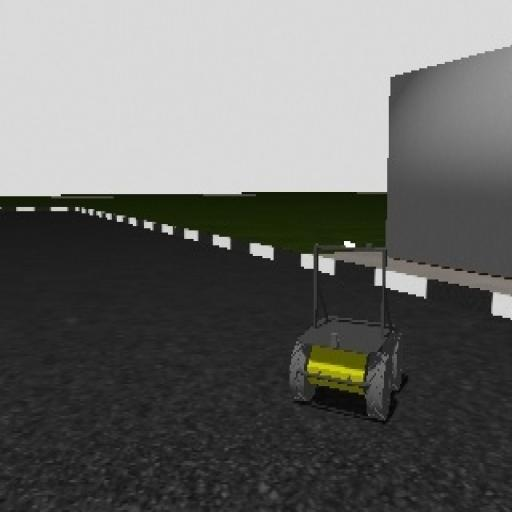huskya200: (273, 236, 425, 434)
